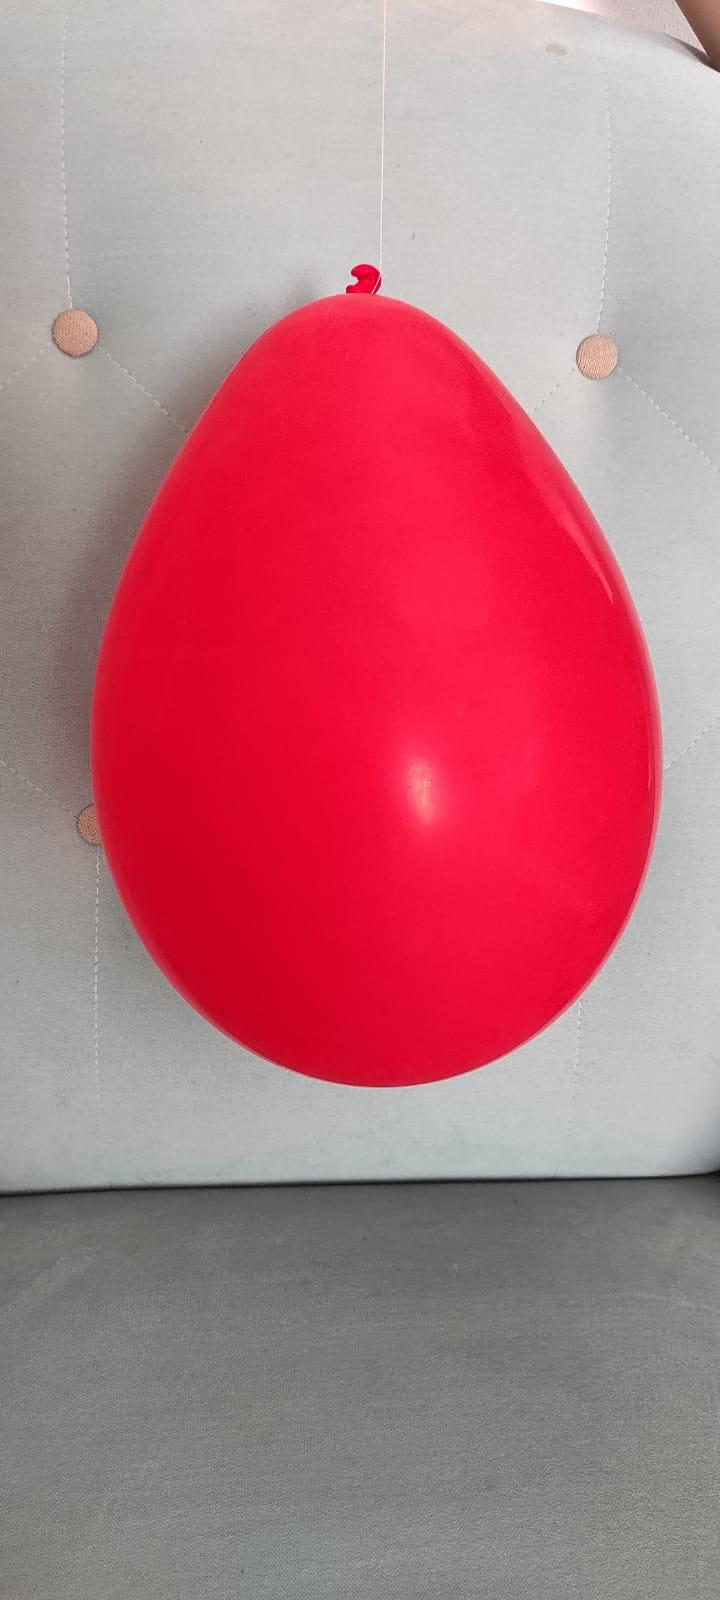red: (87, 257, 675, 1088)
